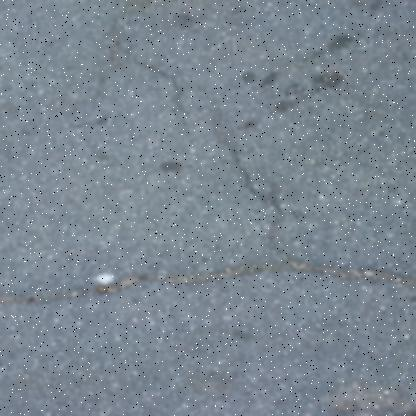Cracks: (0, 249, 416, 312)
